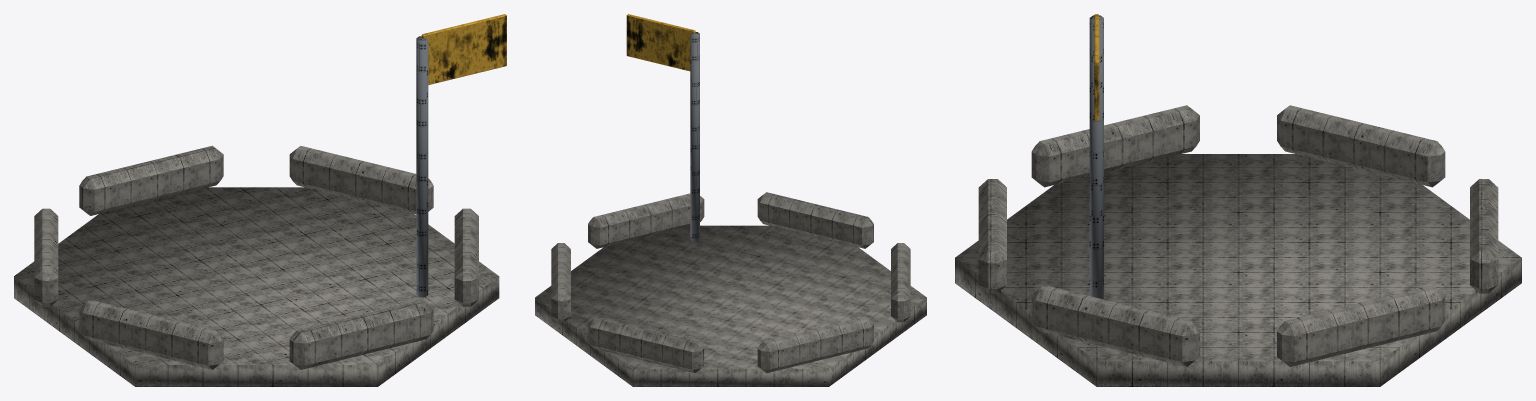
The model's file is outpost.glb.
3 views of the same model, side by side, from view 1: azimuth 30°, elevation 25°; view 2: azimuth 150°, elevation 25°; view 3: azimuth 270°, elevation 25° (orthographic). The views are drawn at different scales.
Visible parts, largest first — view 1: platform, barrier1, barrier3, barrier4, barrier0, flagm, mast, barrier2, barrier5; view 2: platform, barrier1, barrier2, barrier4, barrier5, flagm, mast, barrier0, barrier3; view 3: platform, barrier2, barrier0, barrier5, barrier3, mast, barrier1, barrier4, flagm.
Part boxes in pixels (bbox=[...]): platform: bbox=[14, 187, 499, 386]; barrier1: bbox=[79, 145, 223, 215]; barrier3: bbox=[79, 299, 223, 369]; barrier4: bbox=[289, 299, 433, 369]; barrier0: bbox=[289, 146, 433, 214]; flagm: bbox=[421, 14, 506, 84]; mast: bbox=[416, 36, 428, 297]; barrier2: bbox=[34, 208, 58, 306]; barrier5: bbox=[454, 208, 478, 306]; platform: bbox=[535, 225, 926, 386]; barrier1: bbox=[588, 316, 704, 373]; barrier2: bbox=[757, 316, 873, 373]; barrier4: bbox=[757, 192, 873, 248]; barrier5: bbox=[588, 193, 704, 248]; flagm: bbox=[626, 14, 695, 71]; mast: bbox=[690, 32, 699, 242]; barrier0: bbox=[551, 243, 570, 322]; barrier3: bbox=[891, 243, 910, 322]; platform: bbox=[955, 154, 1521, 386]; barrier2: bbox=[1277, 105, 1445, 187]; barrier0: bbox=[1277, 285, 1445, 366]; barrier5: bbox=[1031, 285, 1199, 366]; barrier3: bbox=[1031, 105, 1199, 187]; mast: bbox=[1089, 15, 1103, 299]; barrier1: bbox=[1470, 179, 1498, 293]; barrier4: bbox=[978, 179, 1006, 293]; flagm: bbox=[1094, 14, 1099, 120].
Bounding box in the file's own units: 113 × 77 × 120.
3 materials, 3 textured.
